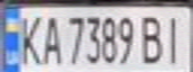3: (81, 12, 103, 65)
7: (63, 11, 84, 65)
8: (100, 12, 121, 65)
9: (115, 12, 139, 65)
A: (36, 11, 63, 65)
B: (136, 11, 169, 65)
I: (160, 11, 190, 65)
K: (15, 10, 45, 66)
